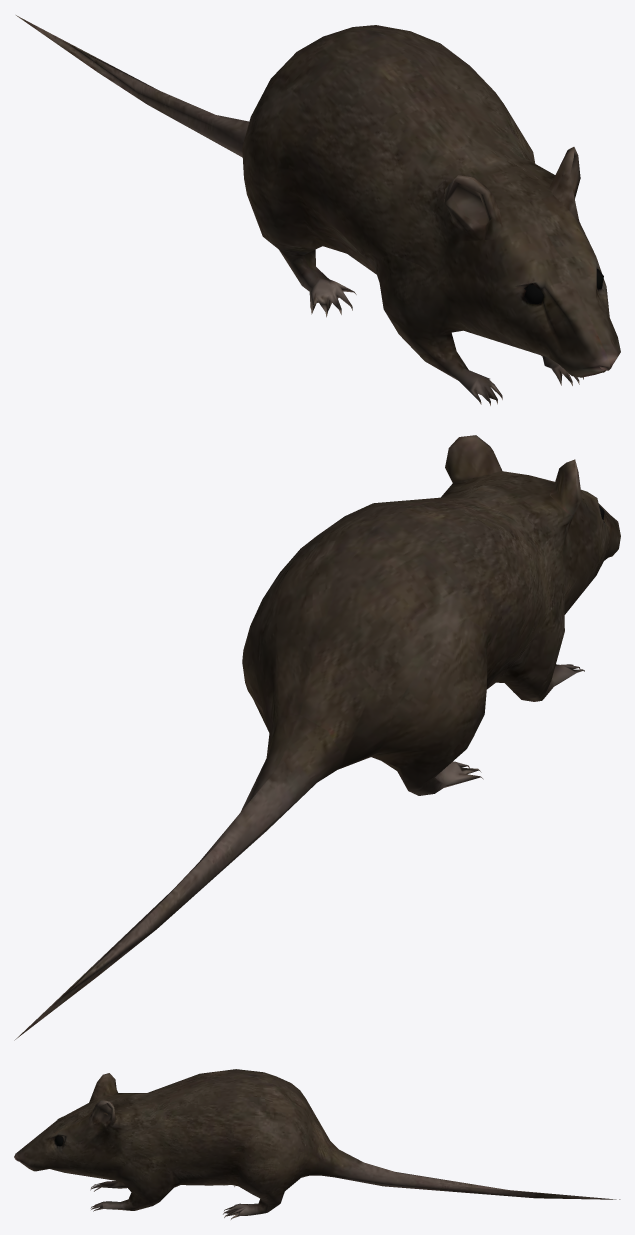
File: street_rat.glb
3 views of the same model, one above another, from view 1: azimuth 30°, elevation 25°; view 2: azimuth 150°, elevation 25°; view 3: azimuth 270°, elevation 25° (orthographic). The views are drawn at different scales.
Parts seen in each view (by area): view 1: street_rat; view 2: street_rat; view 3: street_rat.
Part boxes in pixels (x1,y1,x2,y2): street_rat: (16,15,620,405); street_rat: (14,435,620,1040); street_rat: (14,1069,620,1219).
Bounding box in the file's own units: 0.0318 × 0.0338 × 0.1483.
1 material, 1 textured.
